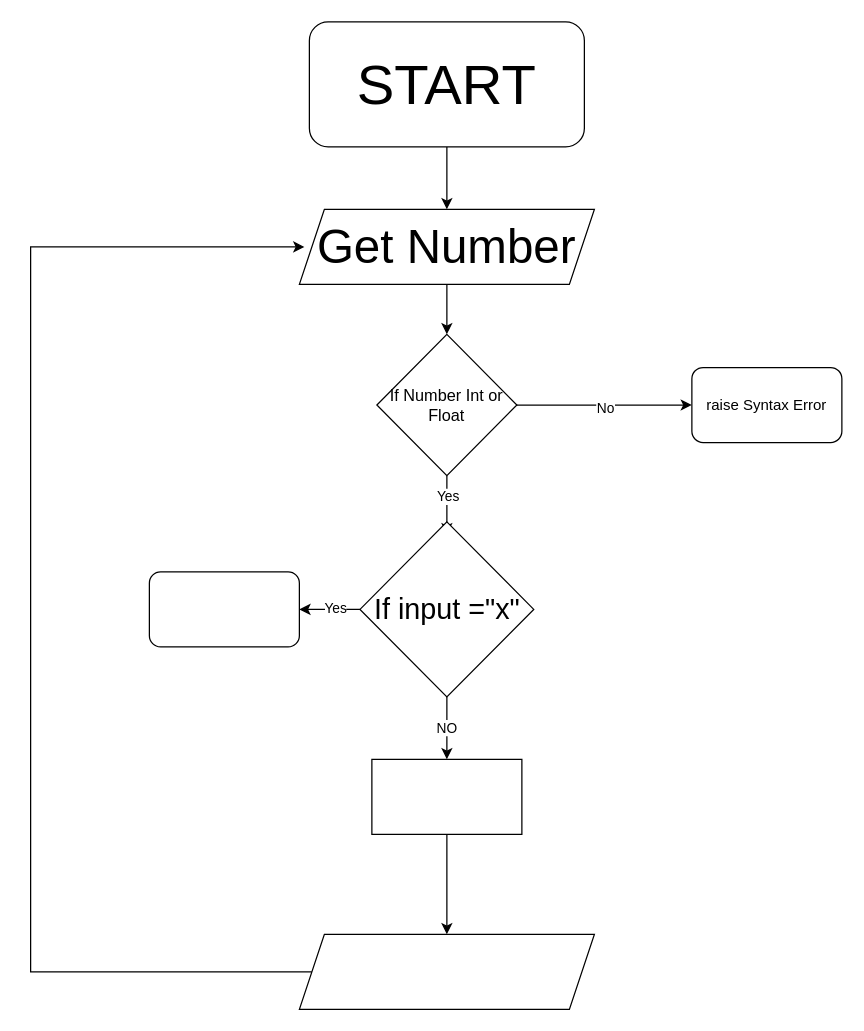
The diagram is 864 pixels wide and 1031 high, and some of its shapes have lost their labels. The centre of each missing label's shape, as x and y in pixels:
Area = π * number ** 2: the point at 446,796
Display Area: the point at 446,971
STOP: the point at 223,609
